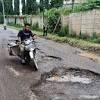Pothole: (17, 62, 100, 100), (32, 43, 65, 63)
